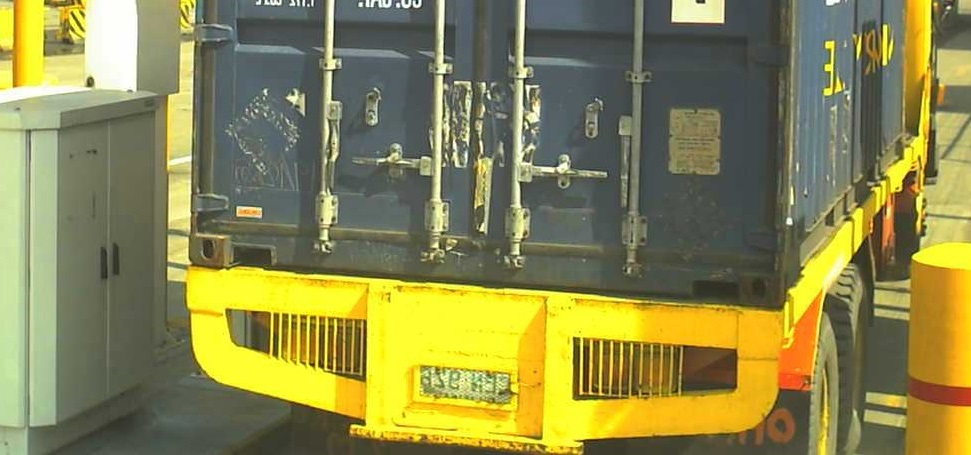container_door: (188, 9, 794, 316)
